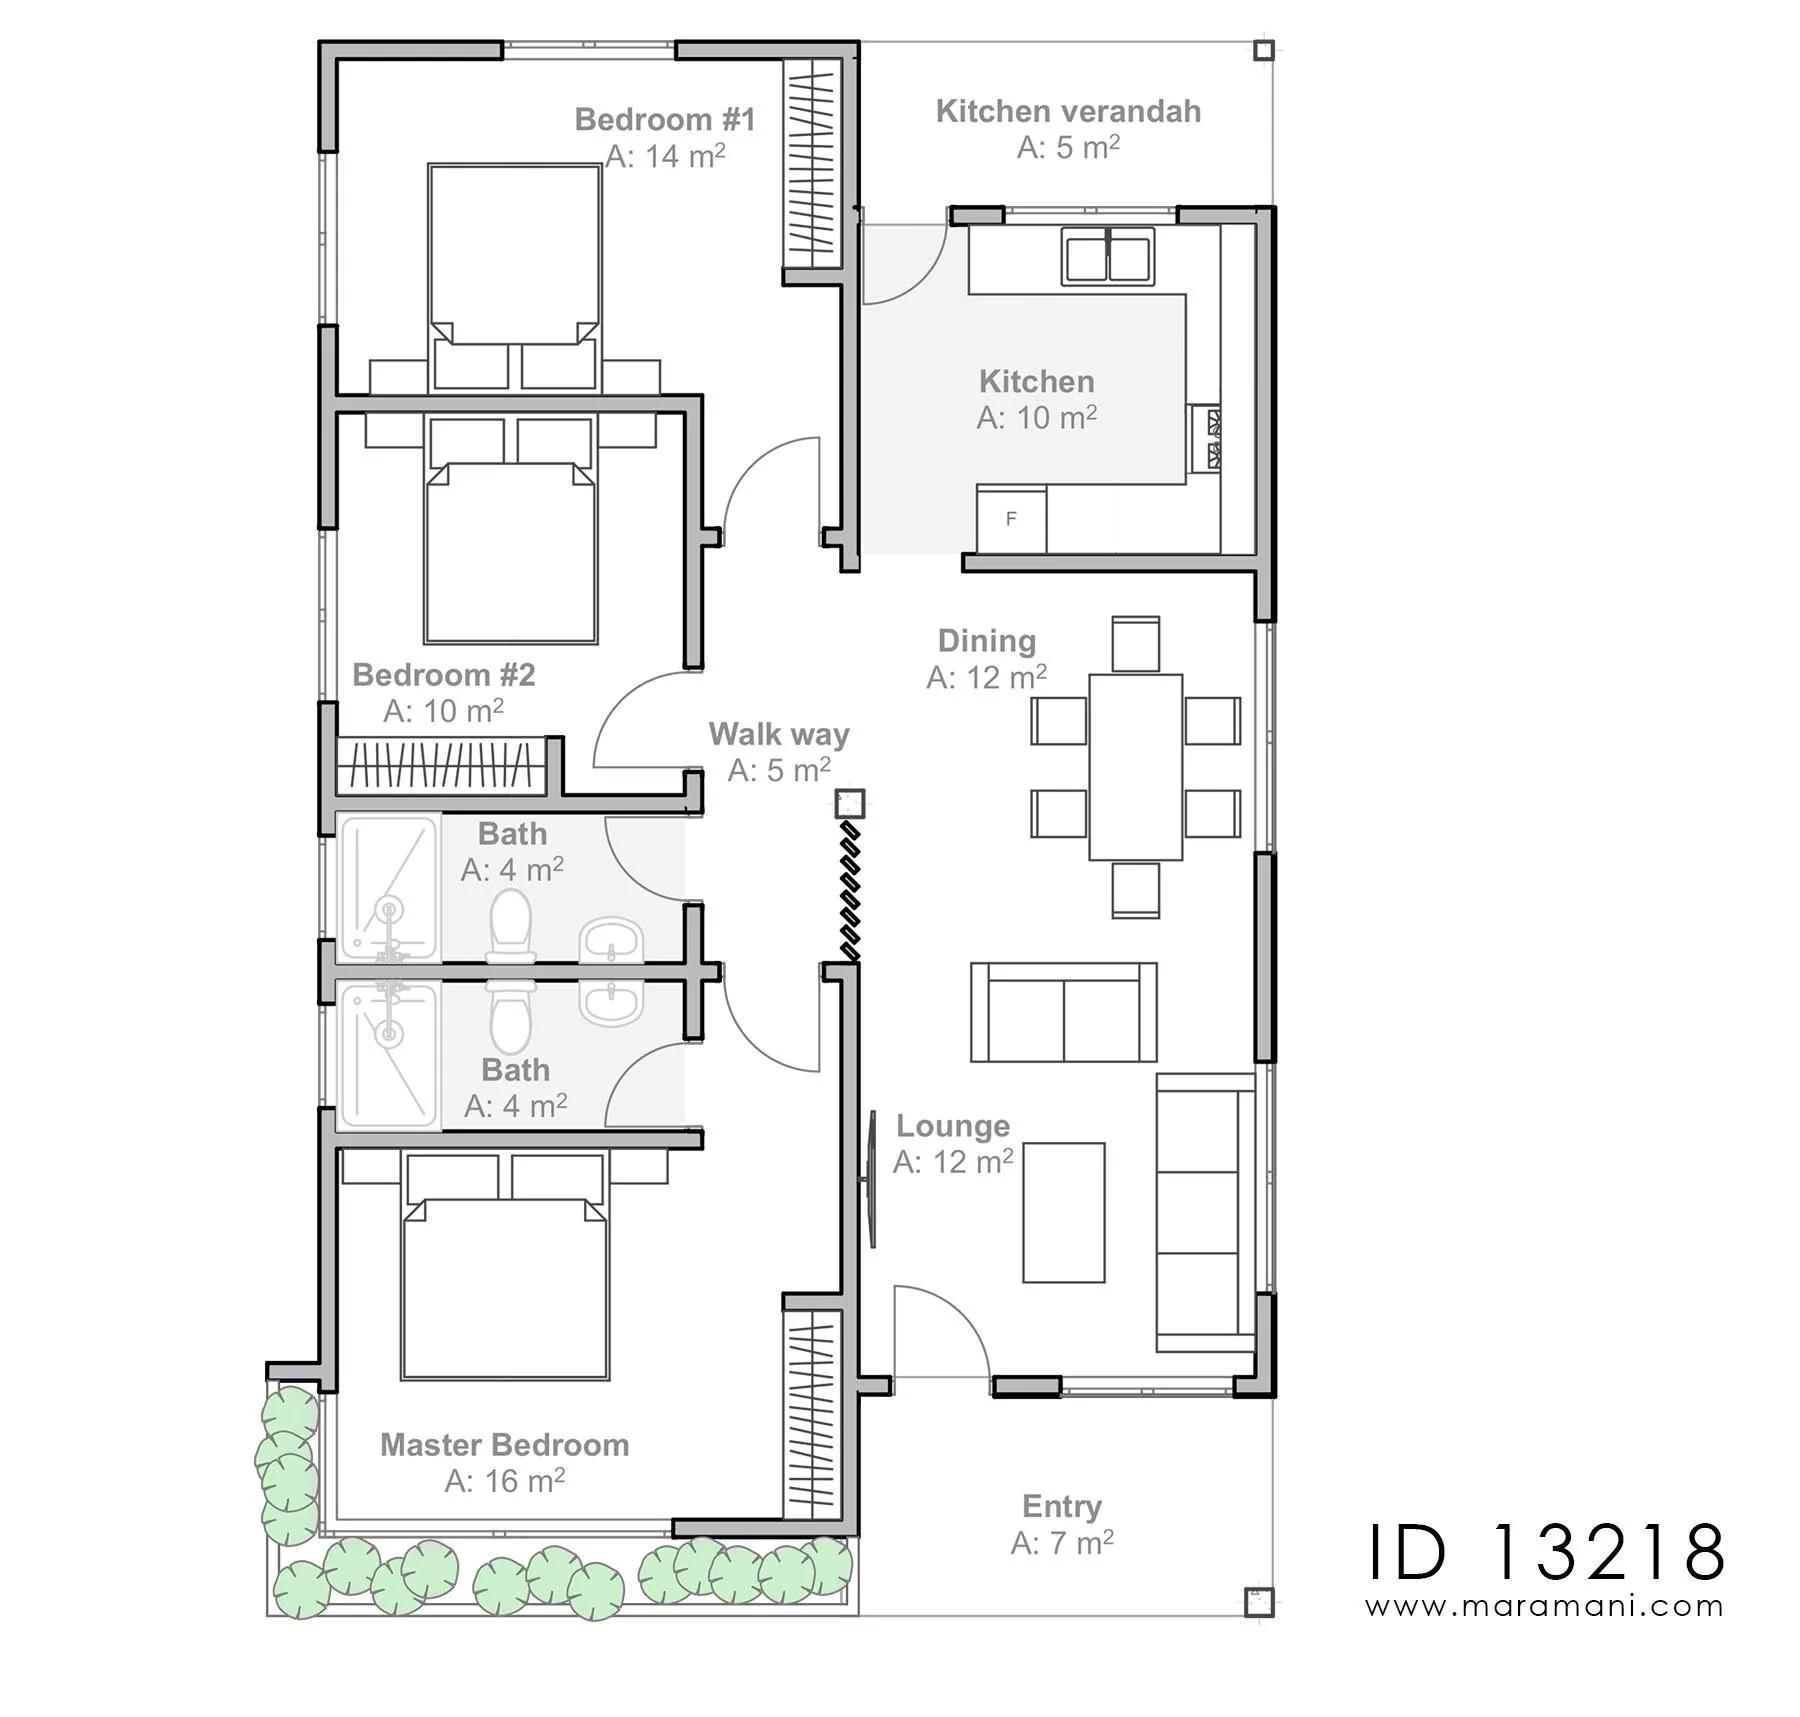room: (852, 563, 1265, 1386), (331, 1143, 844, 1524), (329, 58, 849, 402), (329, 407, 693, 802), (853, 212, 1262, 559), (331, 969, 694, 1138), (329, 804, 694, 968)
